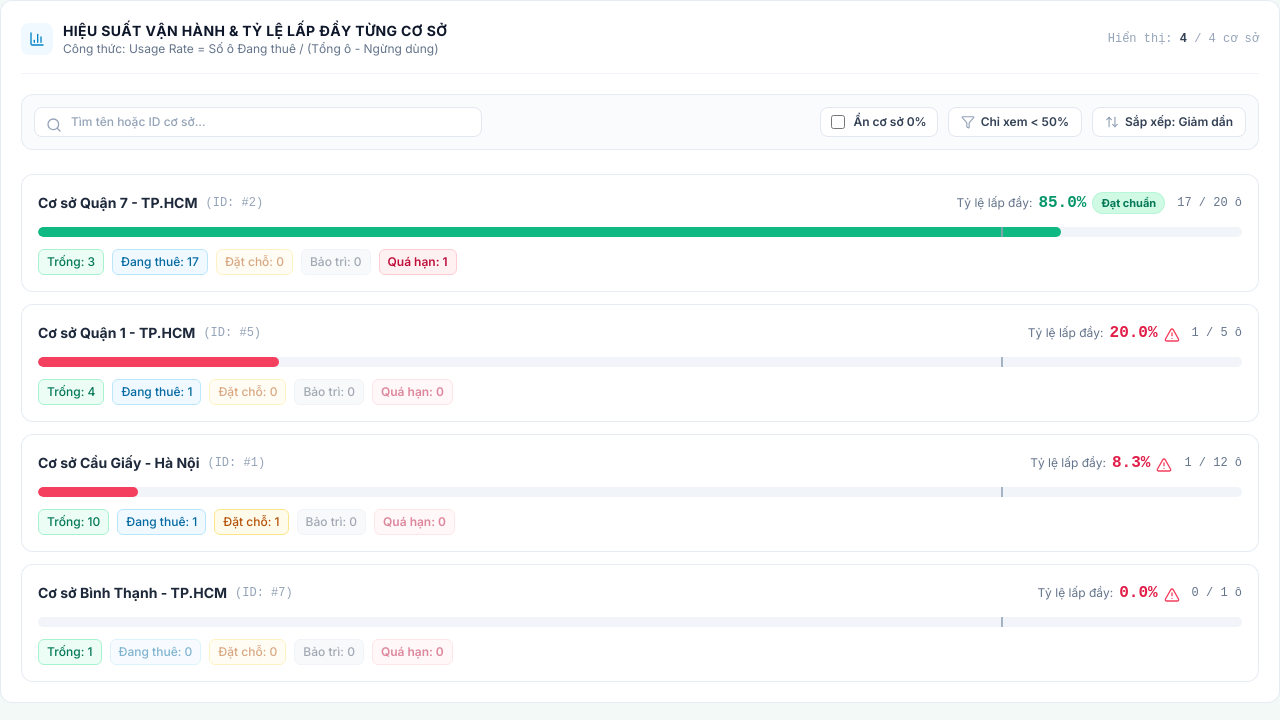
Scenario: OccupancyComparisonChart (Enterprise UX List View) › filters by toggle "Ẩn cơ sở 0%"
Click the checkbox labelled "Ẩn cơ sở 0%": click(838, 122) [831,115,845,129]
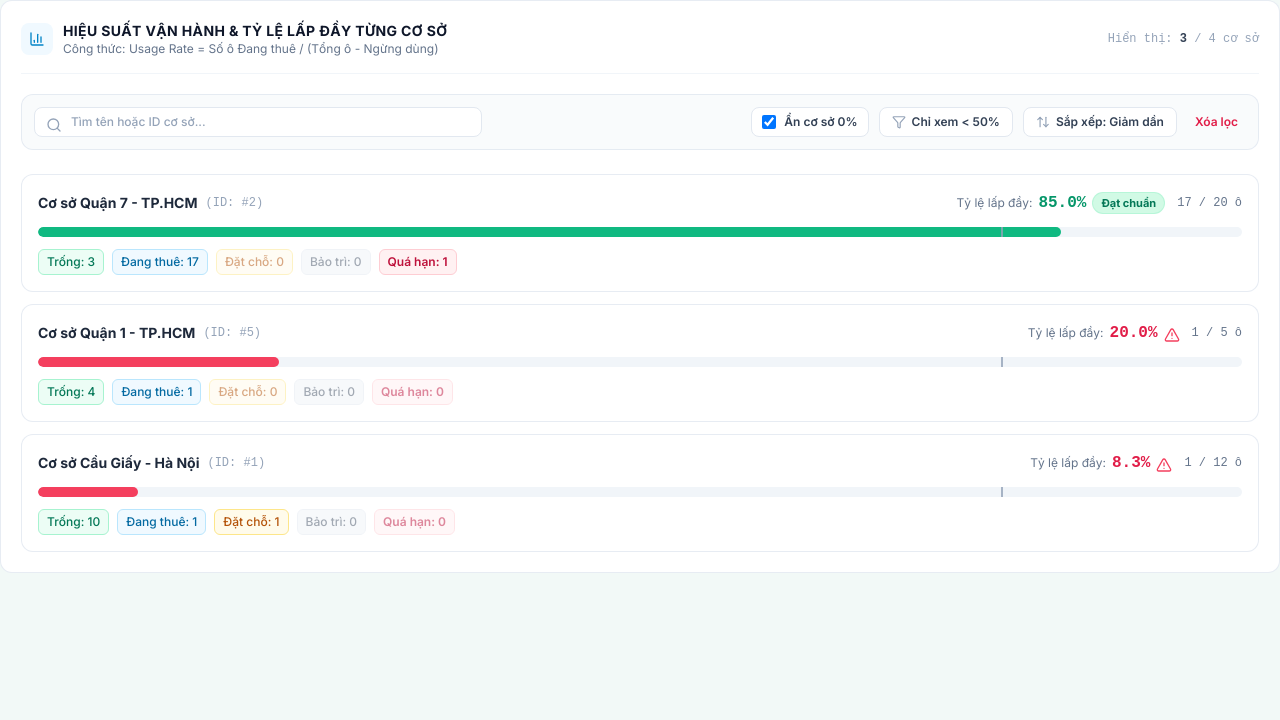
Expected: the text "Cơ sở Quận 1 - TP.HCM" is shown, [38,323,195,343]
Now the button "Cơ sở Bình Thạnh - TP.HCM" is gone
